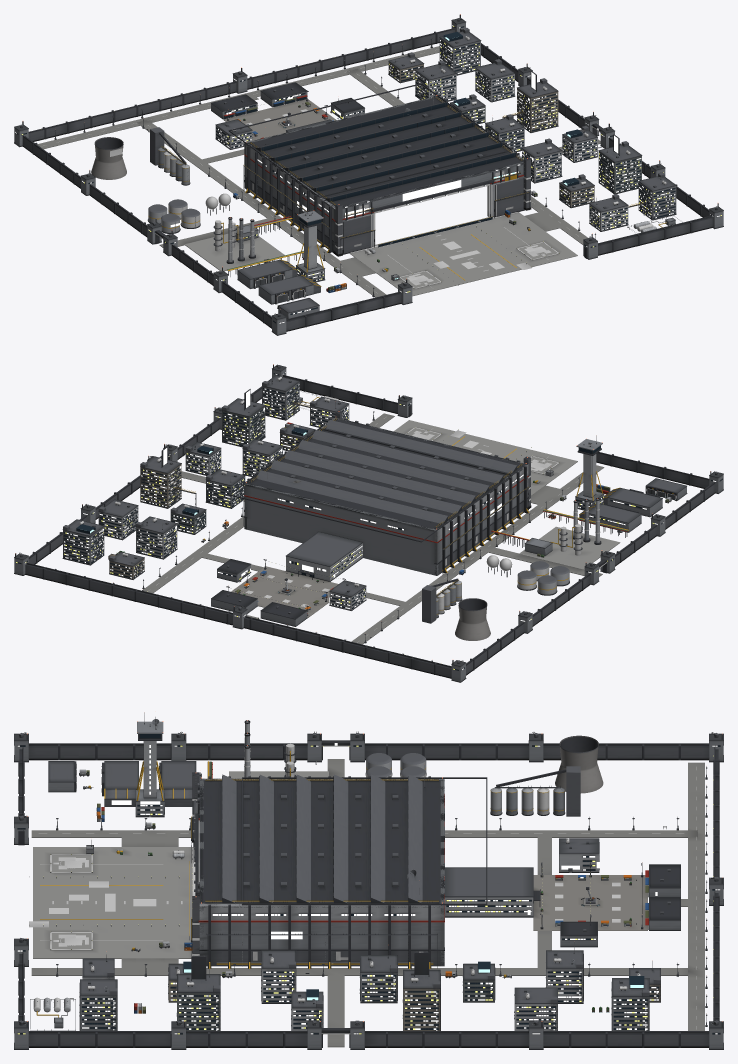
File: Talstadt.a62dd9c8f3.glb
3 views of the same model, one above another, from view 1: azimuth 30°, elevation 25°; view 2: azimuth 150°, elevation 25°; view 3: azimuth 270°, elevation 25° (orthographic). The views are drawn at different scales.
Parts seen in each view (by area): view 1: Talstadt; view 2: Talstadt; view 3: Talstadt.
Boxes of the visible parts, bbox=[...] form: Talstadt: bbox=[14, 14, 723, 335]; Talstadt: bbox=[14, 364, 723, 682]; Talstadt: bbox=[14, 712, 723, 1049].
Bounding box in the file's own units: 487 × 79.3 × 497.
